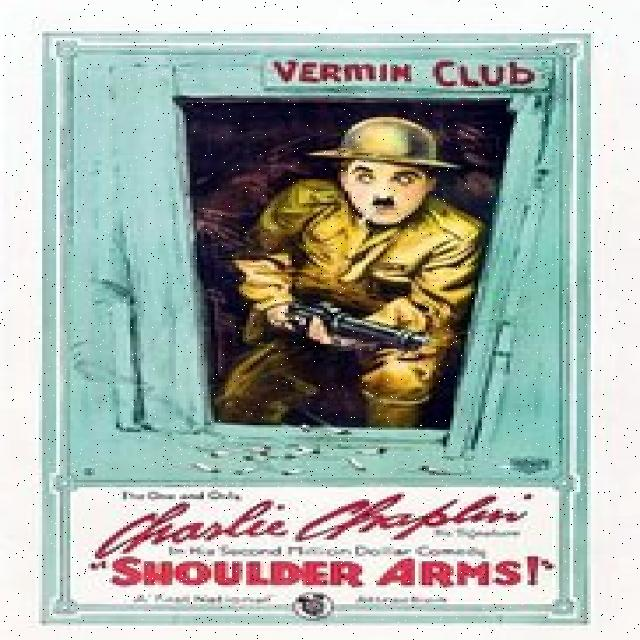movie-judul: (73, 489, 559, 602)
picture: (43, 32, 572, 487)
